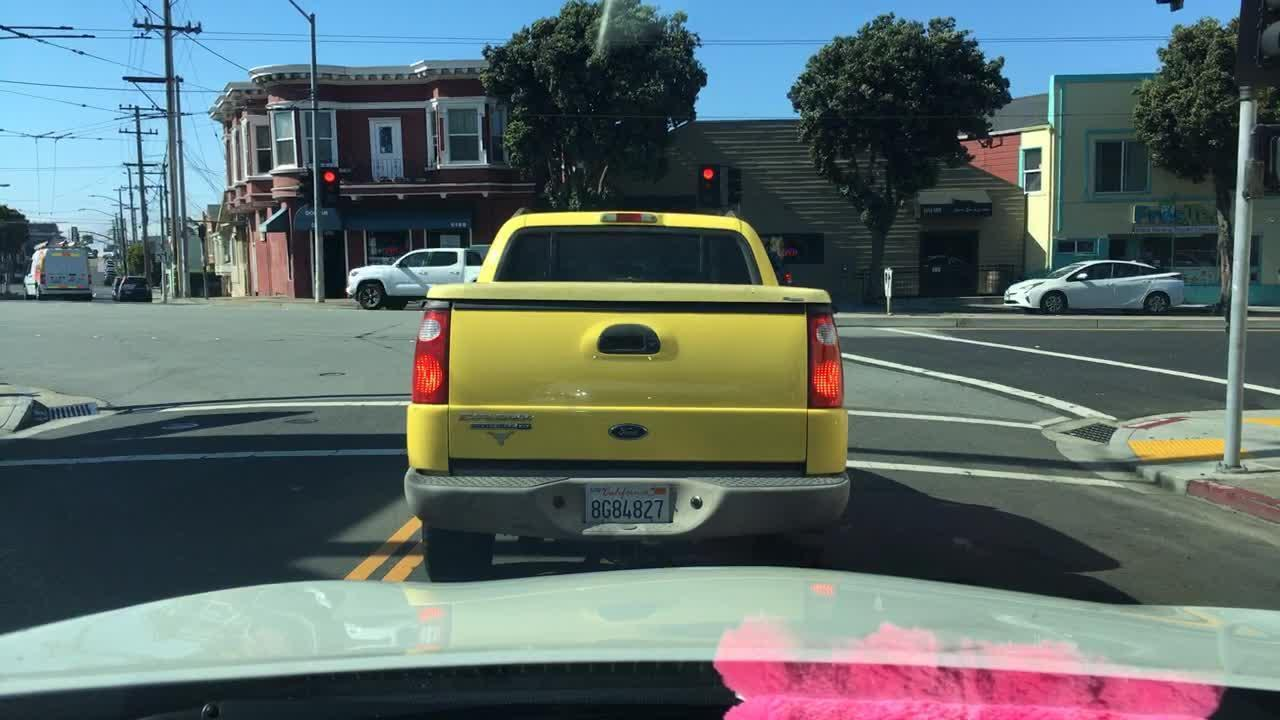ford: (607, 422, 651, 441)
